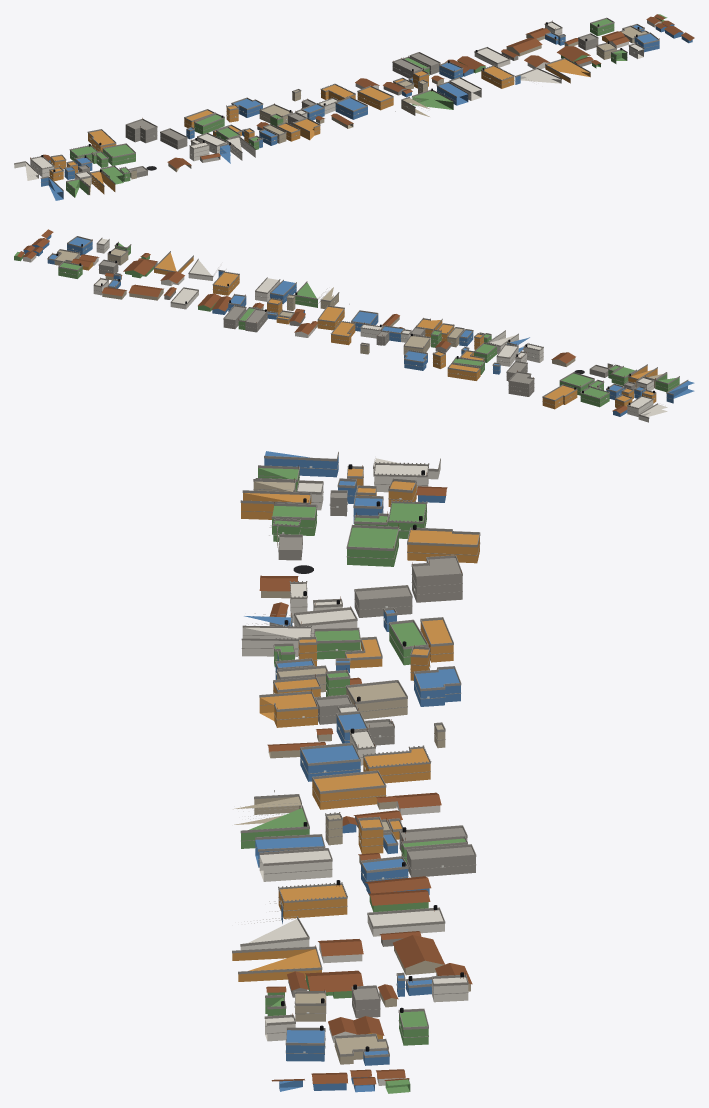
The model's file is zone_t-1_3.glb.
3 renders of one model, top to bottom at view 1: azimuth 30°, elevation 25°; view 2: azimuth 150°, elevation 25°; view 3: azimuth 270°, elevation 25°, orthographic. The views are drawn at different scales.
Visible parts, largest first — view 1: parapet_t-1_3, bld_peinture_ocre_t-1_3-col, bld_peinture_bleu_t-1_3-col, bld_peinture_vert_t-1_3-col, bld_peinture_blanc_t-1_3-col, toit_tole_t-1_3, bld_beton_t-1_3-col, bld_peinture_ecaillee_t-1_3-col, bandeau_t-1_3; view 2: parapet_t-1_3, bld_peinture_ocre_t-1_3-col, bld_peinture_blanc_t-1_3-col, bld_peinture_vert_t-1_3-col, bld_peinture_bleu_t-1_3-col, toit_tole_t-1_3, bld_beton_t-1_3-col, bld_peinture_ecaillee_t-1_3-col, bandeau_t-1_3; view 3: parapet_t-1_3, bld_peinture_ocre_t-1_3-col, bld_peinture_blanc_t-1_3-col, bld_peinture_bleu_t-1_3-col, bld_peinture_vert_t-1_3-col, toit_tole_t-1_3, bld_beton_t-1_3-col, bld_peinture_ecaillee_t-1_3-col, bandeau_t-1_3.
Part boxes in pixels (x1=…): parapet_t-1_3: x1=14, y1=17, x2=659, y2=191; bld_peinture_ocre_t-1_3-col: x1=49, y1=36, x2=608, y2=194; bld_peinture_bleu_t-1_3-col: x1=41, y1=24, x2=692, y2=200; bld_peinture_vert_t-1_3-col: x1=66, y1=14, x2=667, y2=197; bld_peinture_blanc_t-1_3-col: x1=14, y1=20, x2=661, y2=184; toit_tole_t-1_3: x1=43, y1=14, x2=694, y2=168; bld_beton_t-1_3-col: x1=78, y1=34, x2=598, y2=177; bld_peinture_ecaillee_t-1_3-col: x1=82, y1=27, x2=646, y2=194; bandeau_t-1_3: x1=30, y1=27, x2=659, y2=194; parapet_t-1_3: x1=47, y1=236, x2=688, y2=418; bld_peinture_ocre_t-1_3-col: x1=82, y1=253, x2=657, y2=409; bld_peinture_blanc_t-1_3-col: x1=23, y1=238, x2=667, y2=422; bld_peinture_vert_t-1_3-col: x1=14, y1=243, x2=679, y2=407; bld_peinture_bleu_t-1_3-col: x1=23, y1=234, x2=694, y2=416; toit_tole_t-1_3: x1=17, y1=229, x2=627, y2=413; bld_beton_t-1_3-col: x1=99, y1=261, x2=635, y2=396; bld_peinture_ecaillee_t-1_3-col: x1=54, y1=249, x2=662, y2=388; bandeau_t-1_3: x1=58, y1=244, x2=683, y2=413; parapet_t-1_3: x1=232, y1=451, x2=480, y2=1057; bld_peinture_ocre_t-1_3-col: x1=232, y1=468, x2=479, y2=1039; bld_peinture_blanc_t-1_3-col: x1=240, y1=458, x2=468, y2=1085; bld_peinture_bleu_t-1_3-col: x1=244, y1=451, x2=460, y2=1092; bld_peinture_vert_t-1_3-col: x1=241, y1=468, x2=465, y2=1093; toit_tole_t-1_3: x1=259, y1=486, x2=472, y2=1085; bld_beton_t-1_3-col: x1=269, y1=493, x2=475, y2=1018; bld_peinture_ecaillee_t-1_3-col: x1=233, y1=481, x2=470, y2=1064; bandeau_t-1_3: x1=241, y1=462, x2=480, y2=1053.
Bounding box in the file's own units: 507 × 11 × 86.01.
